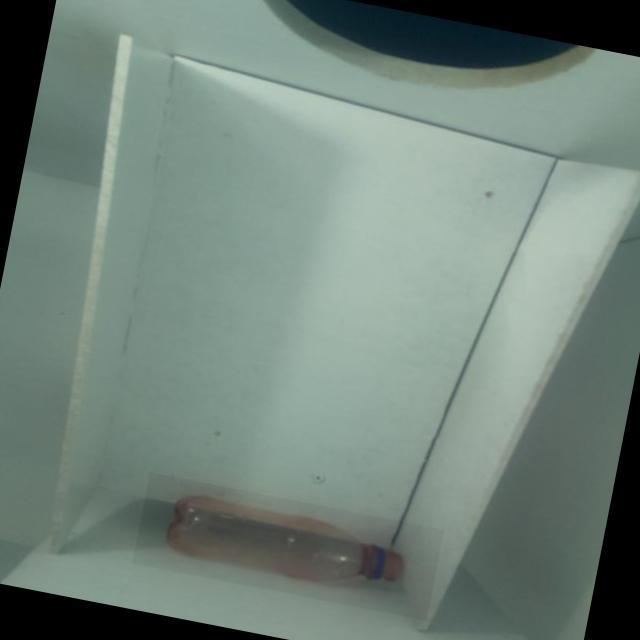good: (133, 471, 444, 620)
